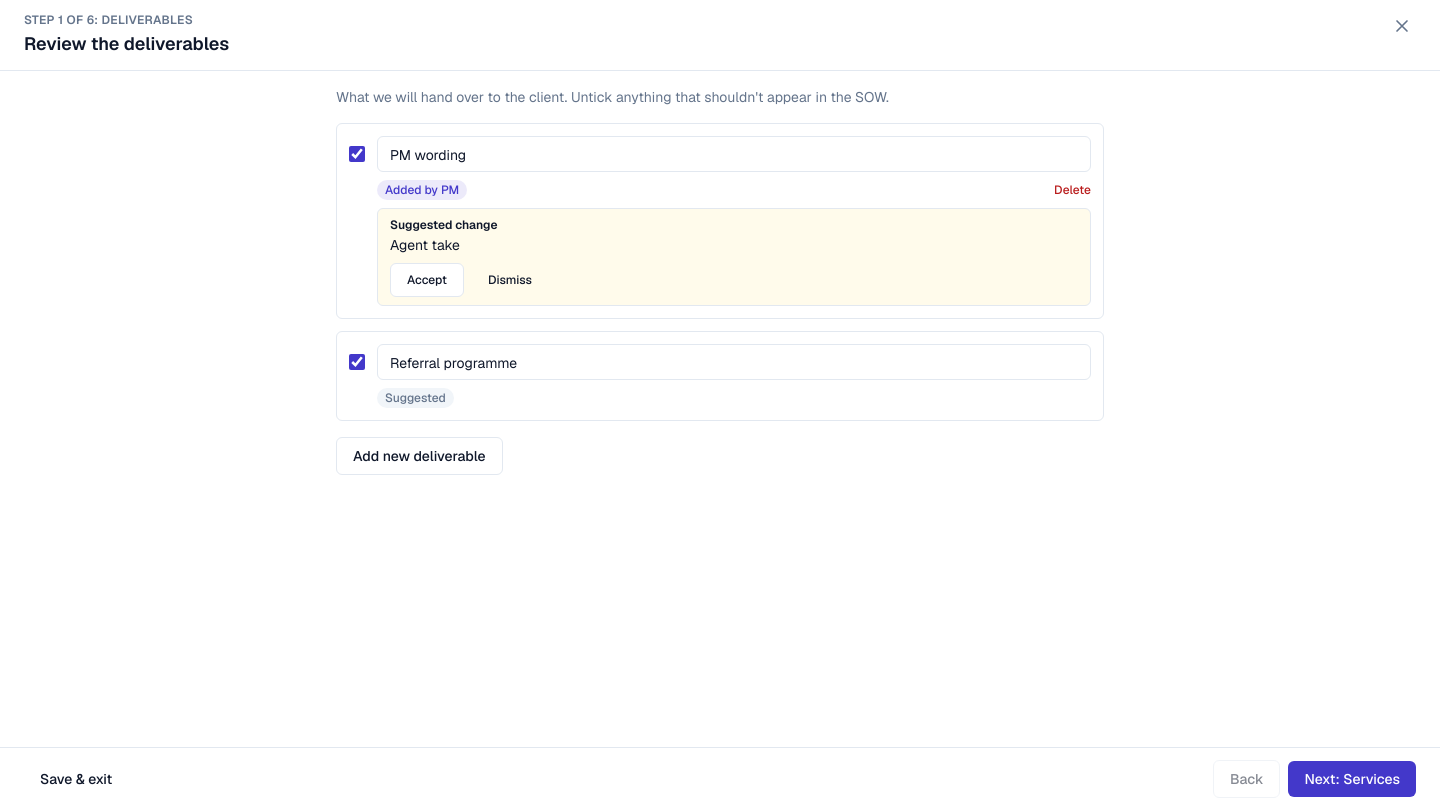
Test case: SowReviewOverlay — items and provenance › dismisses a suggested change
The width and height of the screenshot is (1440, 810).
Step 1. Click the button "Dismiss" → (510, 280), box [472,263,548,297]
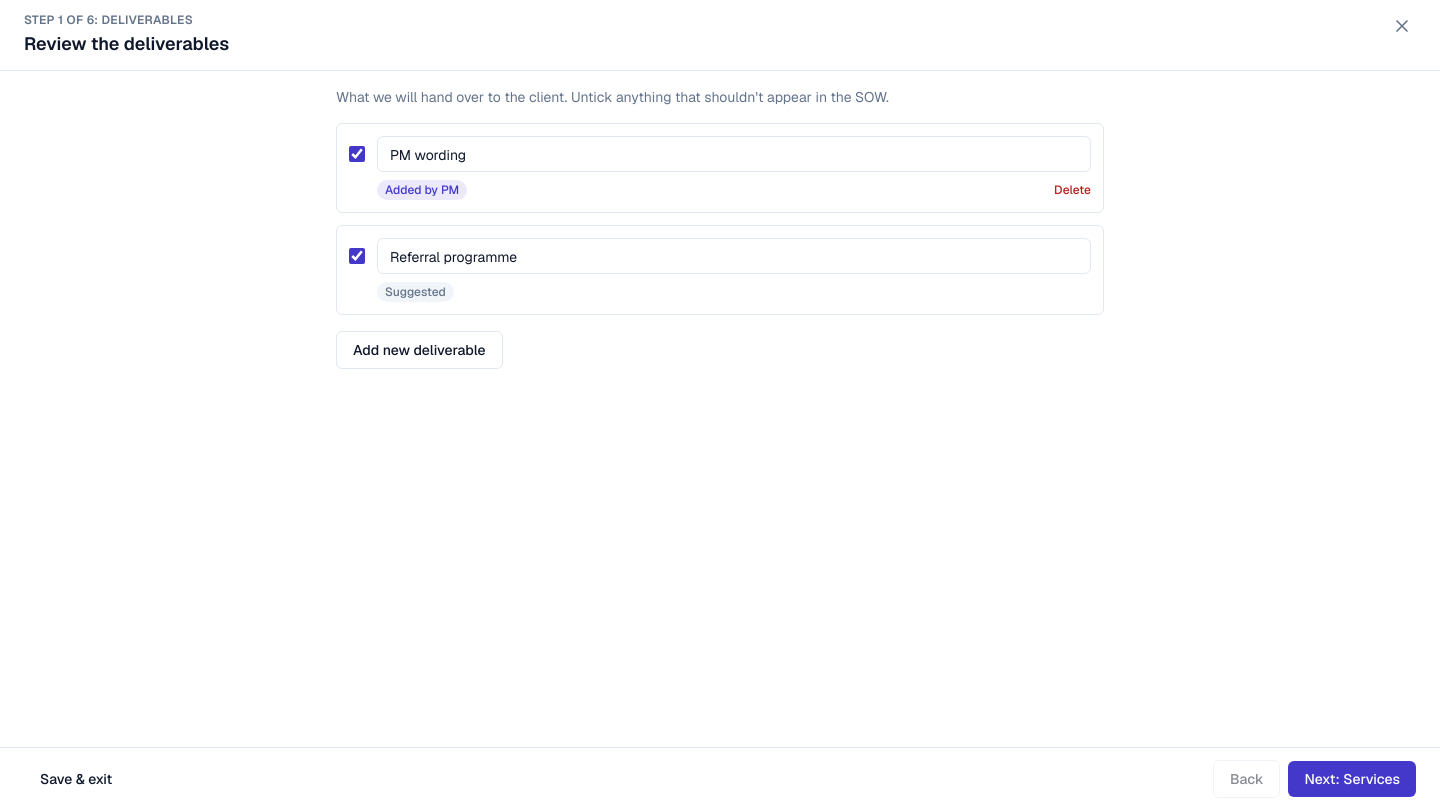
expect the text box showing "PM wording" is shown: met, box [377,136,1091,172]
expect the element with test id "pending-suggestion" is gone: met
